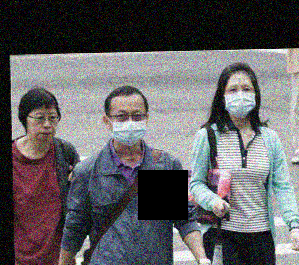with_mask: (108, 108, 149, 146), (222, 80, 256, 118)
without_mask: (26, 111, 59, 142)
